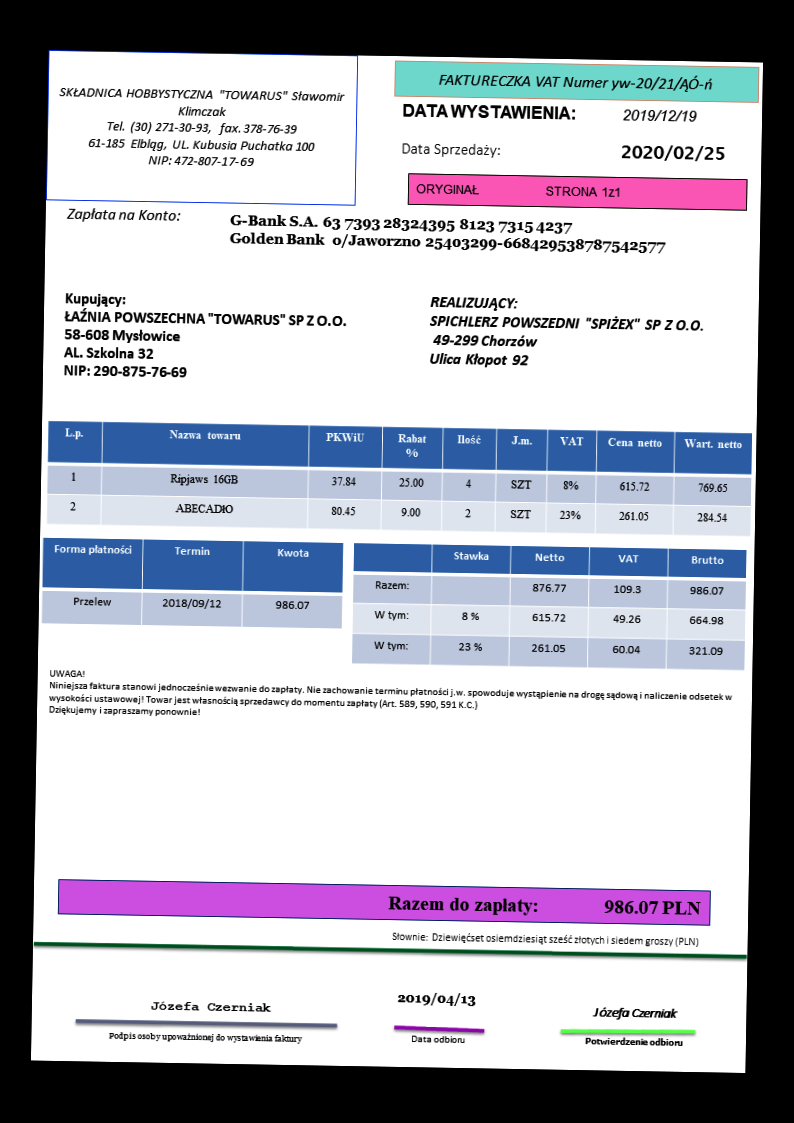Table: (45, 417, 752, 539), (351, 541, 749, 672), (40, 536, 343, 631)
TextBox: (46, 665, 735, 730), (61, 288, 349, 383), (53, 82, 349, 172), (426, 292, 707, 374), (227, 209, 669, 259), (385, 890, 702, 920), (434, 67, 717, 96), (389, 927, 703, 951), (412, 178, 625, 201), (399, 98, 579, 124), (106, 1028, 304, 1045), (618, 139, 727, 164), (400, 137, 502, 161), (65, 203, 181, 223), (148, 998, 272, 1014), (619, 103, 701, 126), (394, 989, 477, 1011), (589, 1002, 680, 1022), (582, 1033, 687, 1050), (407, 1031, 468, 1046)
